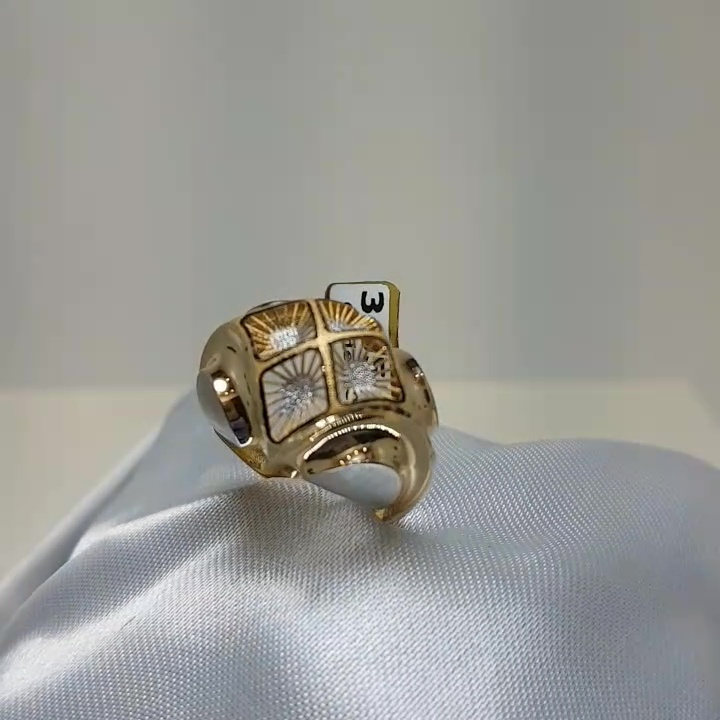Ring 2: (169, 269, 452, 536)
